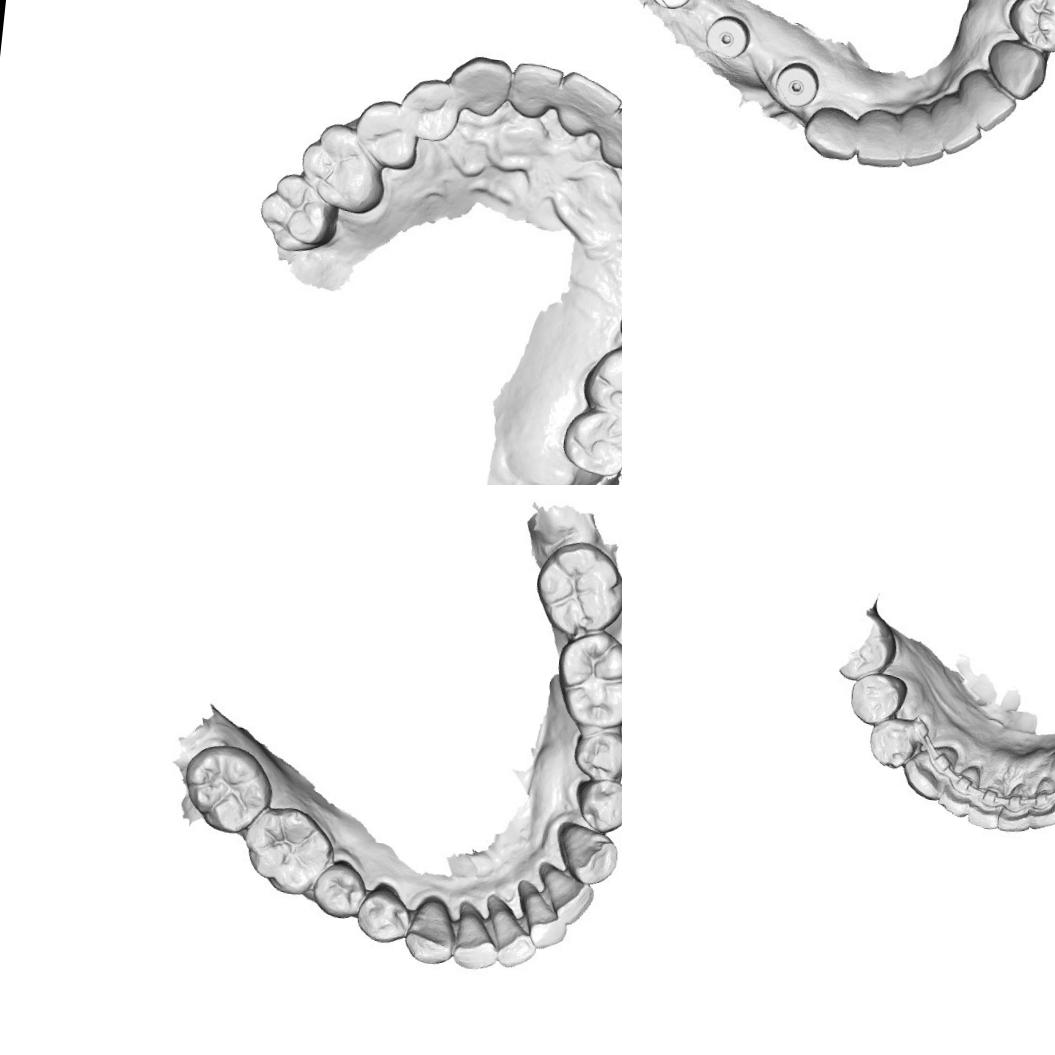canine: (984, 36, 1050, 103), (398, 895, 457, 968), (801, 97, 864, 164), (553, 819, 617, 882), (448, 52, 509, 116), (866, 713, 928, 774)
implant: (768, 60, 823, 112), (702, 10, 753, 62), (645, 0, 697, 13)
incisor: (556, 71, 622, 138), (957, 67, 1020, 135), (534, 863, 597, 923), (485, 894, 536, 966), (450, 900, 501, 969), (856, 105, 910, 170), (507, 60, 565, 120), (935, 94, 985, 159), (519, 882, 571, 944), (898, 106, 950, 166), (902, 746, 956, 800), (970, 780, 1012, 831), (940, 761, 981, 813), (597, 105, 622, 180), (1000, 780, 1036, 832), (1026, 780, 1055, 834)
molar: (239, 798, 331, 902), (178, 739, 271, 835), (536, 539, 622, 636), (297, 124, 386, 211), (550, 630, 622, 734), (259, 173, 334, 248), (560, 407, 622, 477), (589, 349, 622, 416)
premolar: (398, 78, 461, 144), (312, 856, 370, 924), (354, 880, 412, 948), (360, 99, 416, 168), (848, 672, 905, 729), (571, 772, 622, 832), (1002, 0, 1055, 56), (574, 727, 622, 781)
